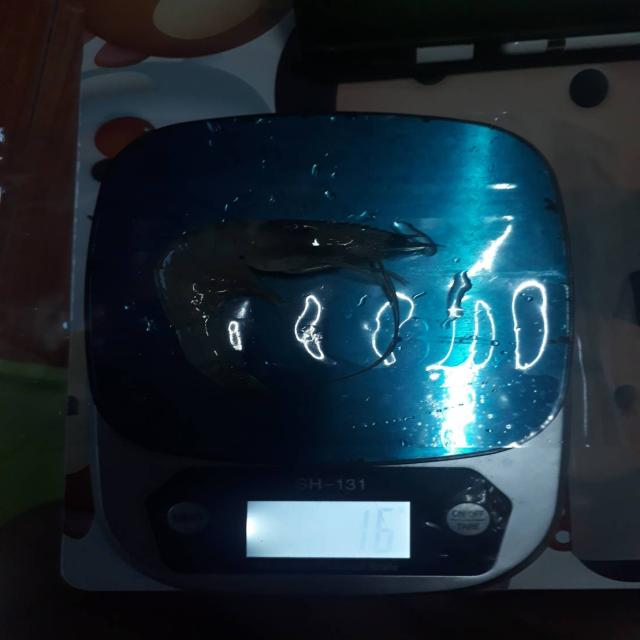1: (358, 508, 371, 555)
6: (375, 506, 398, 555)
screen: (248, 499, 412, 558)
